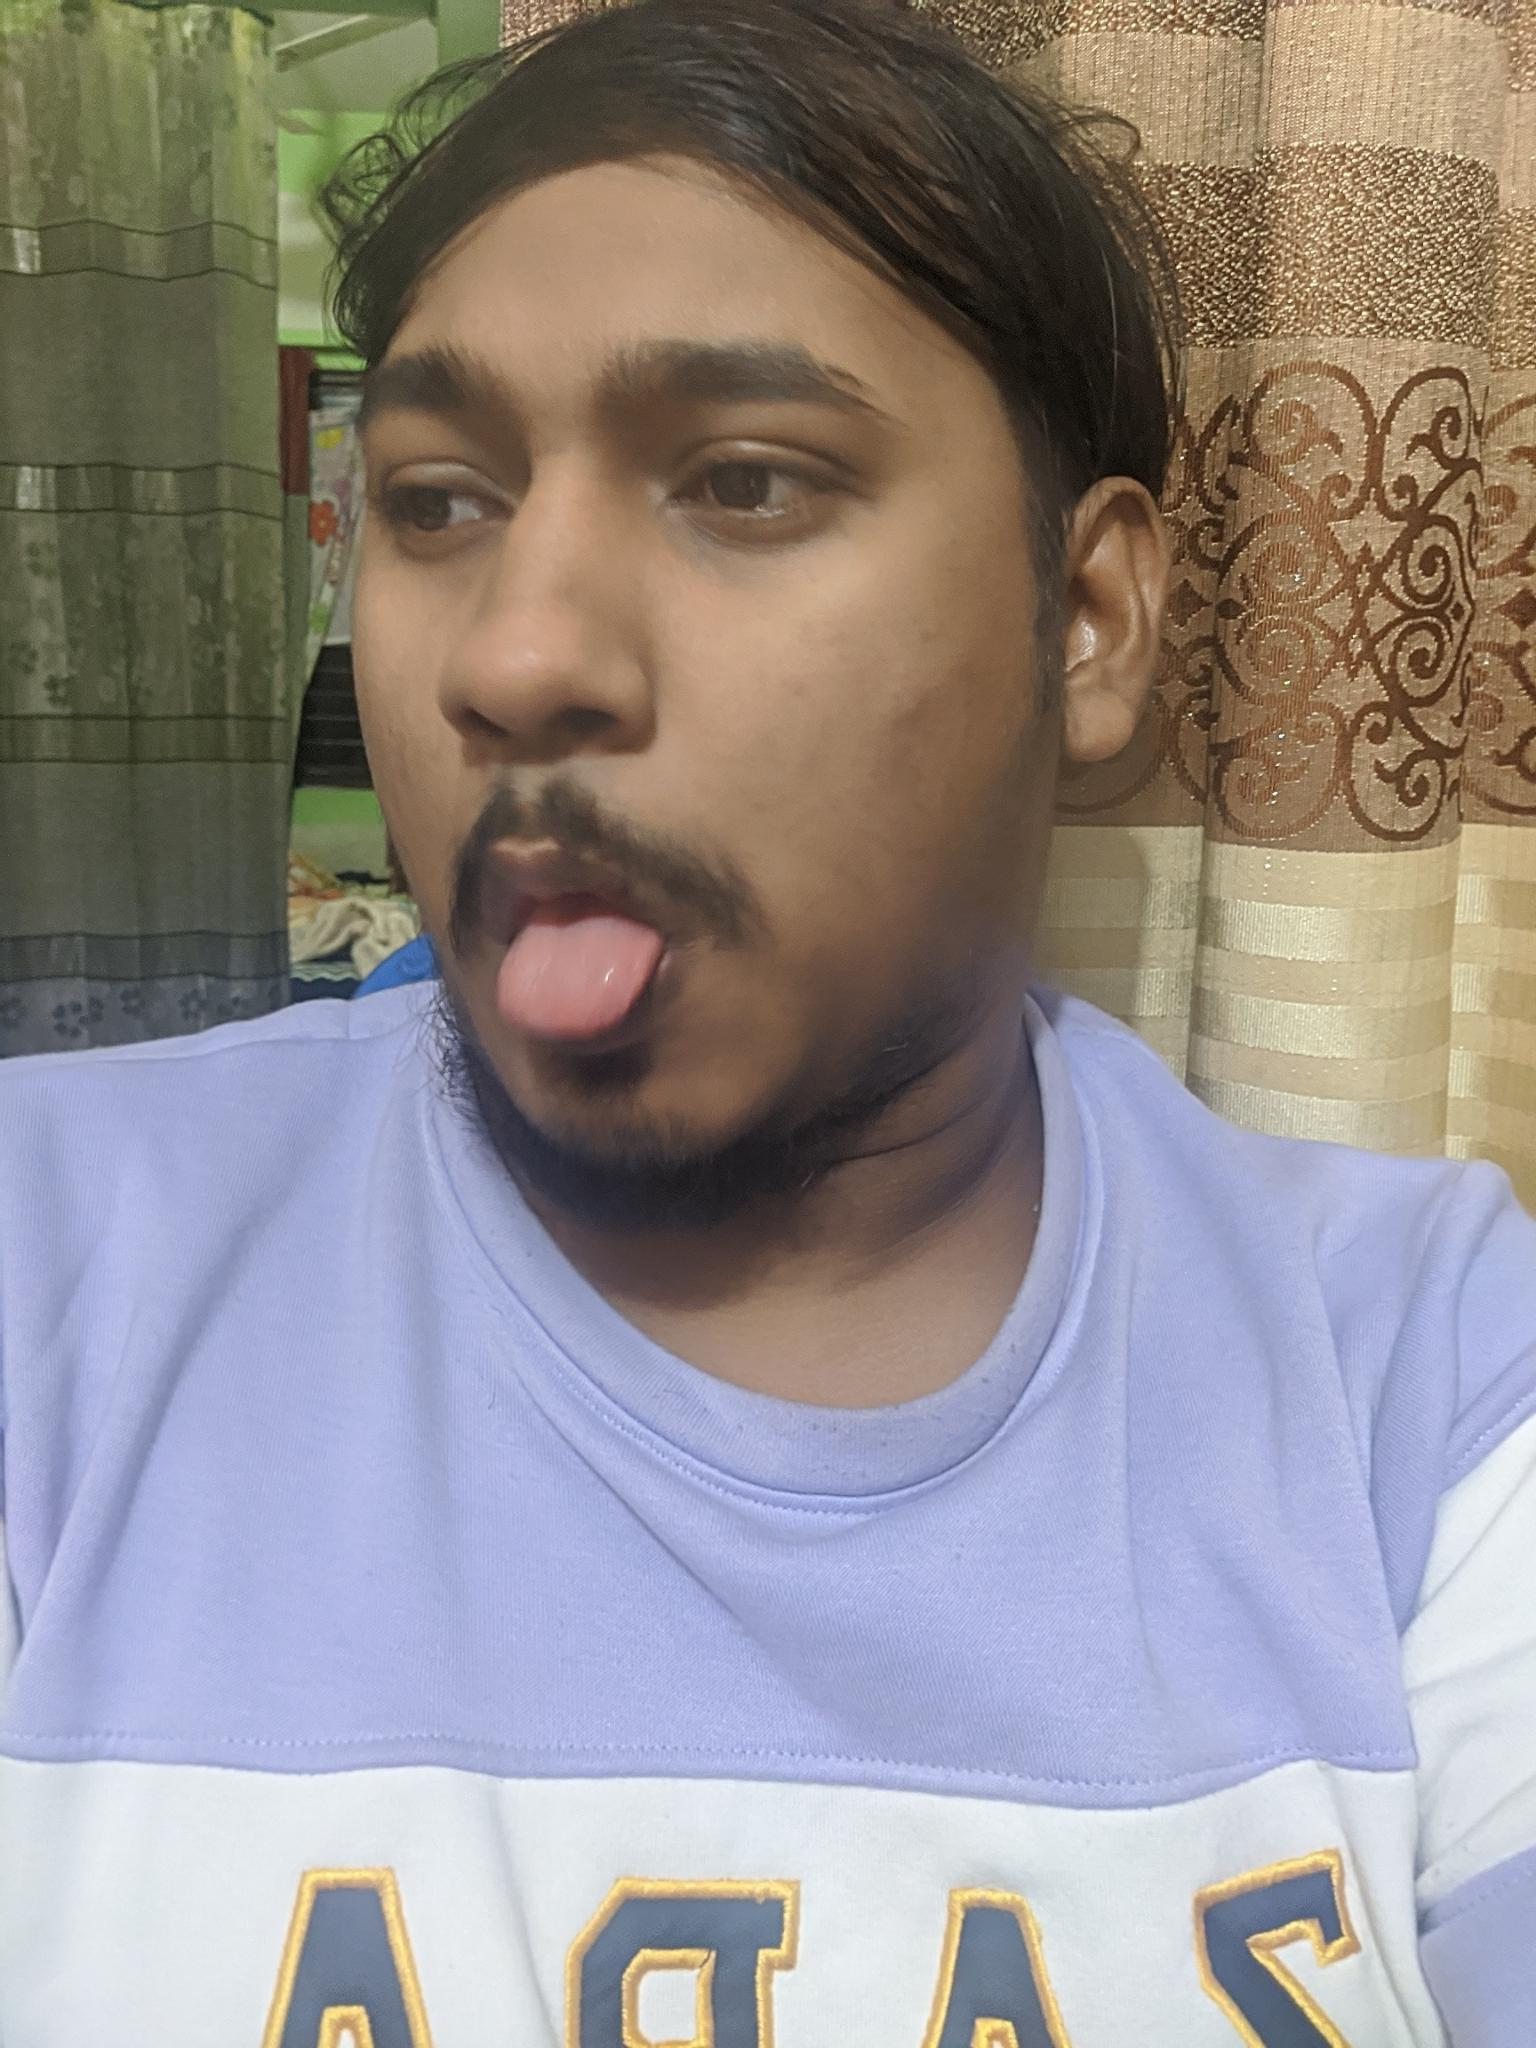Disgust: (303, 279, 966, 1190)
